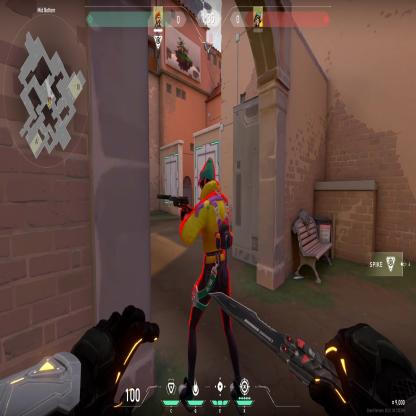enemy: (176, 154, 245, 368)
